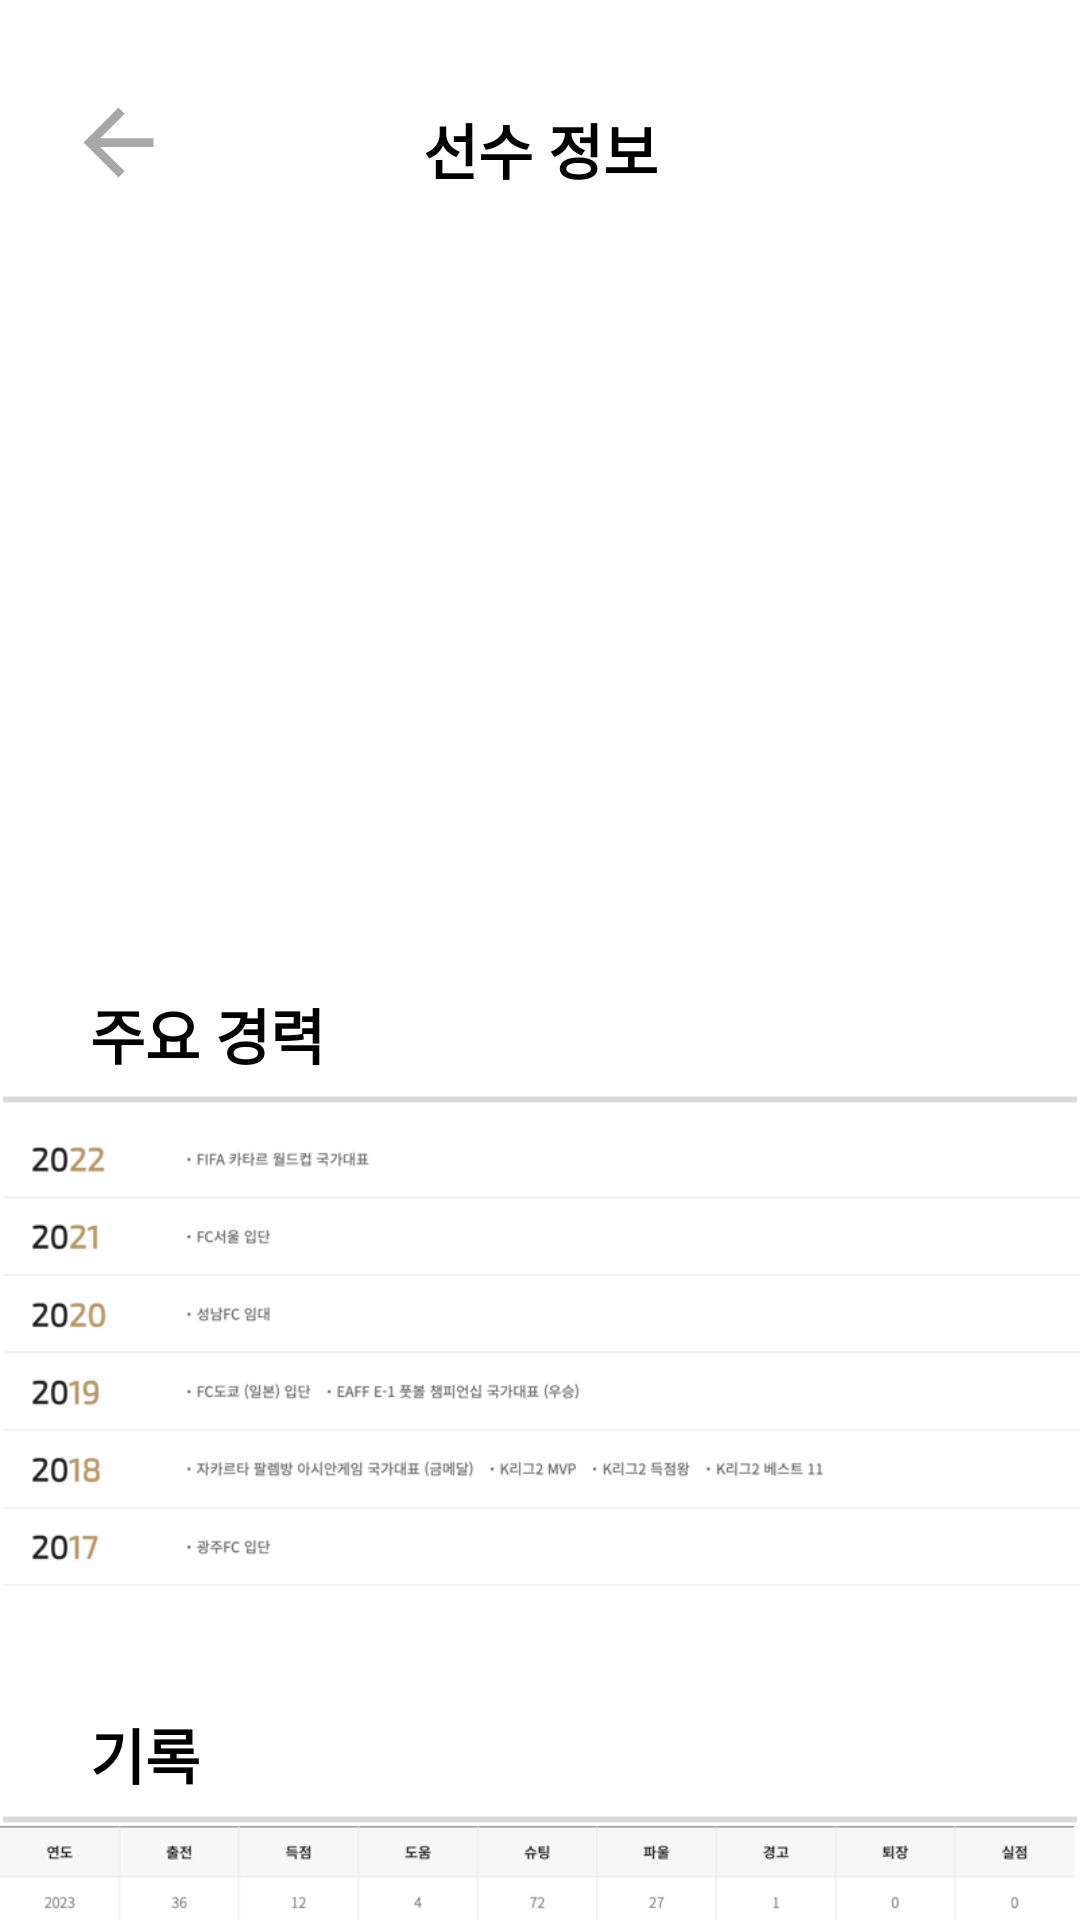

Screen size 1080×1920. Icon name, then its box in pixels as (x1, y1, x2, y2):
arrow back: (84, 108, 154, 177)
